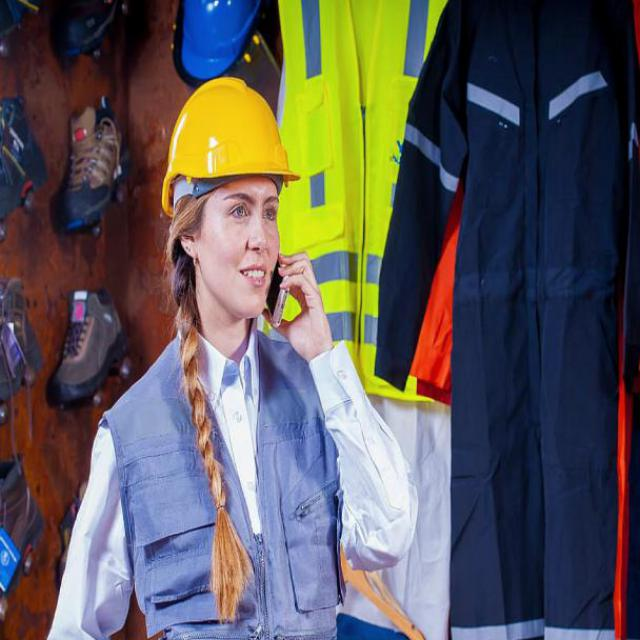helmet: (165, 79, 298, 320)
